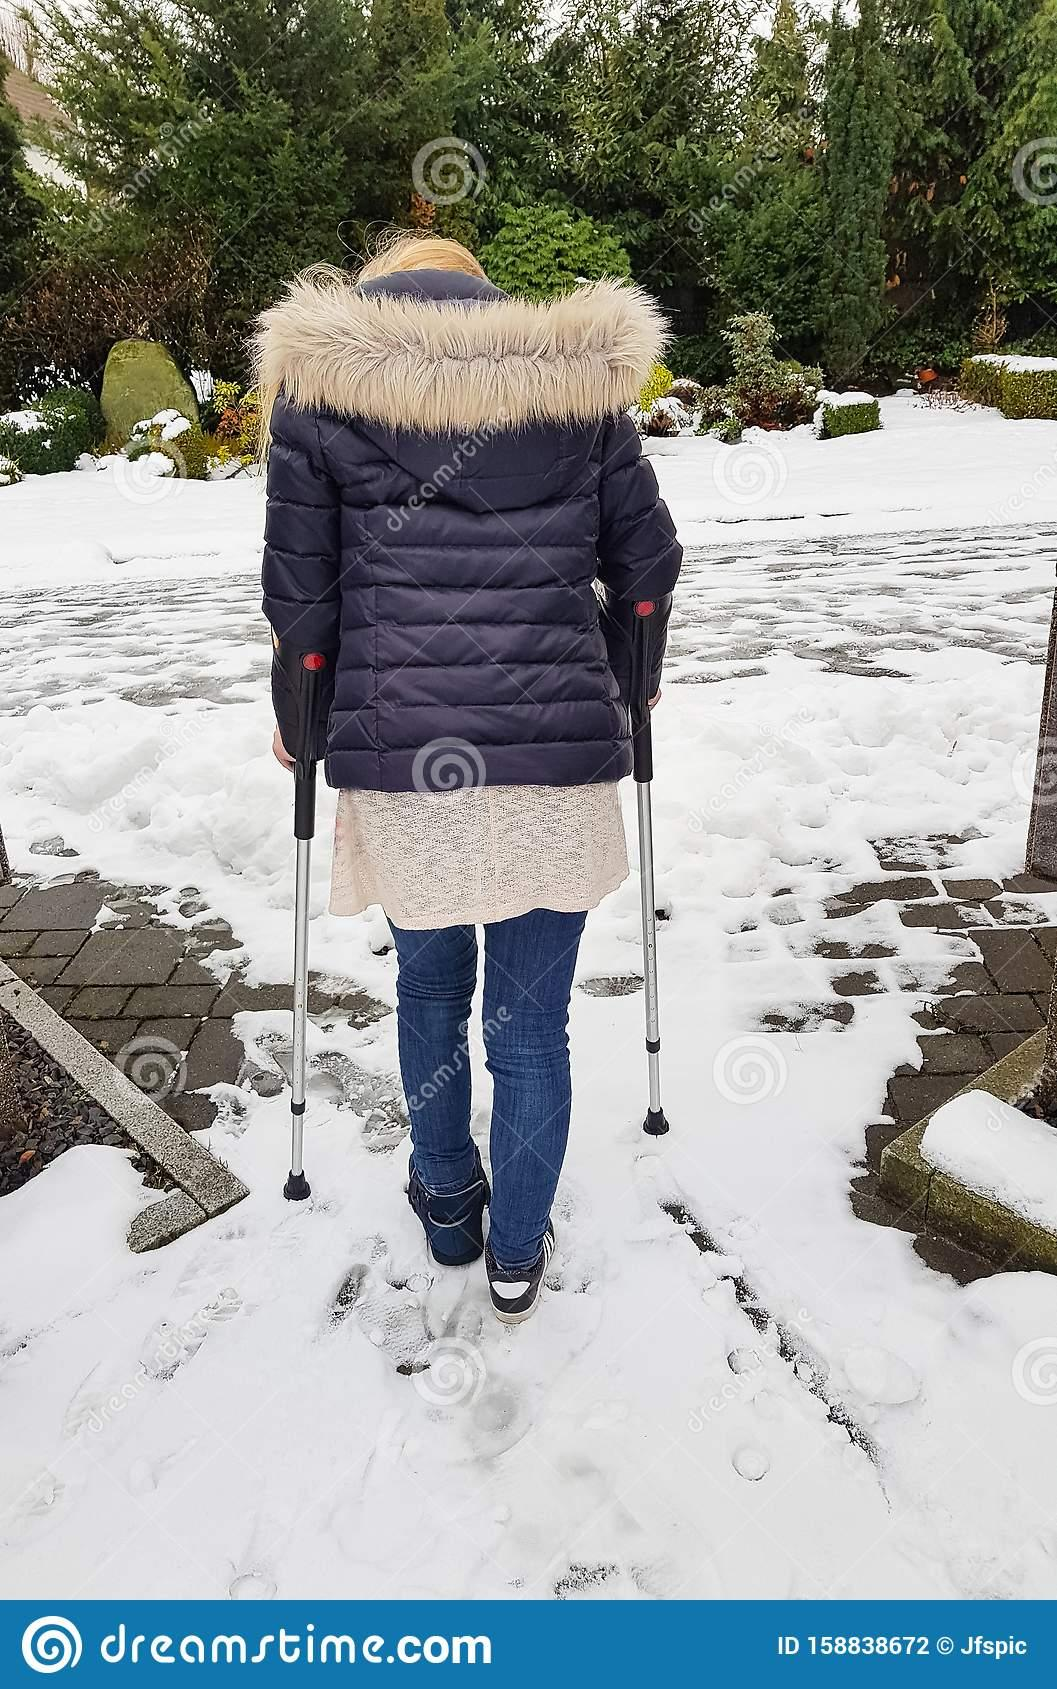crutches: (256, 240, 686, 1320)
